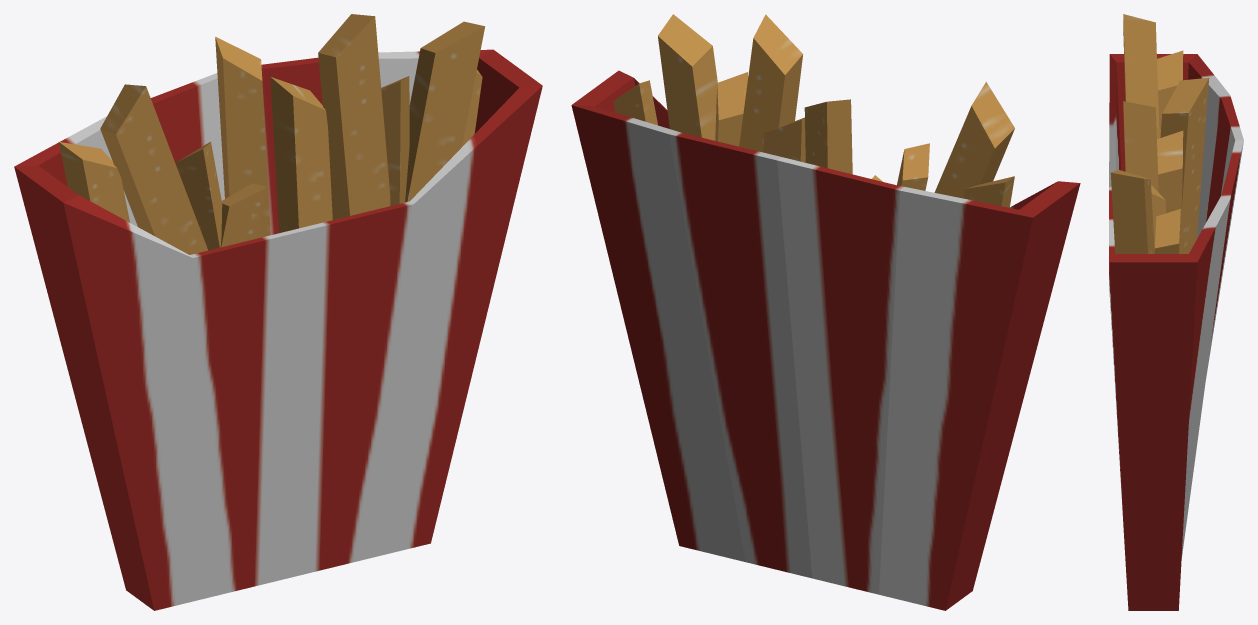
Rendered from Fries.fbx.
3 views of the same model, side by side, from view 1: azimuth 30°, elevation 25°; view 2: azimuth 150°, elevation 25°; view 3: azimuth 270°, elevation 25° (orthographic). The views are drawn at different scales.
Parts seen in each view (by area): view 1: Fries; view 2: Fries; view 3: Fries.
Boxes of the visible parts, x1,y1,x2,y2 form: Fries: [14, 14, 542, 610]; Fries: [571, 14, 1080, 610]; Fries: [1109, 14, 1243, 610].
Size of the model in its own units: 120 by 130 by 32.87.
1 material, 1 textured.
